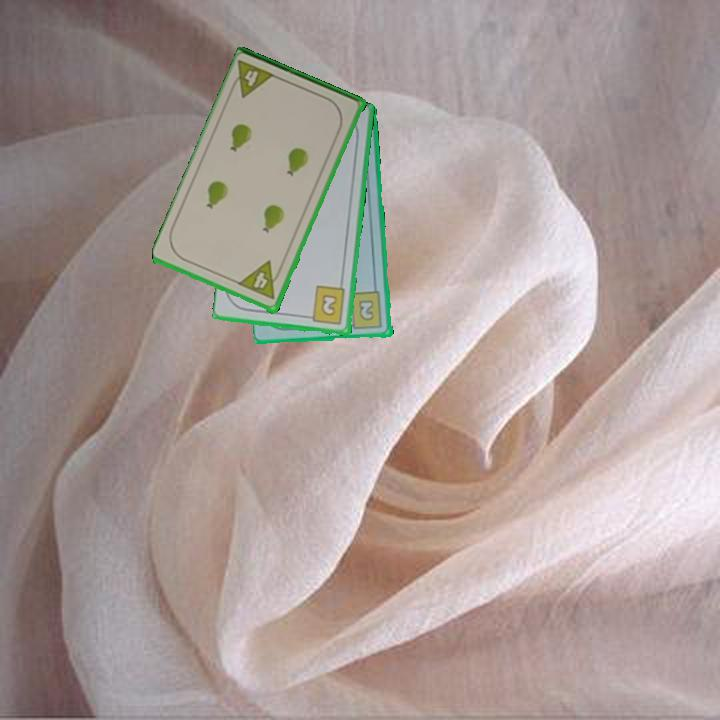2b: (303, 283, 348, 328), (343, 289, 385, 332)
4p: (226, 57, 279, 101), (236, 258, 285, 303)
